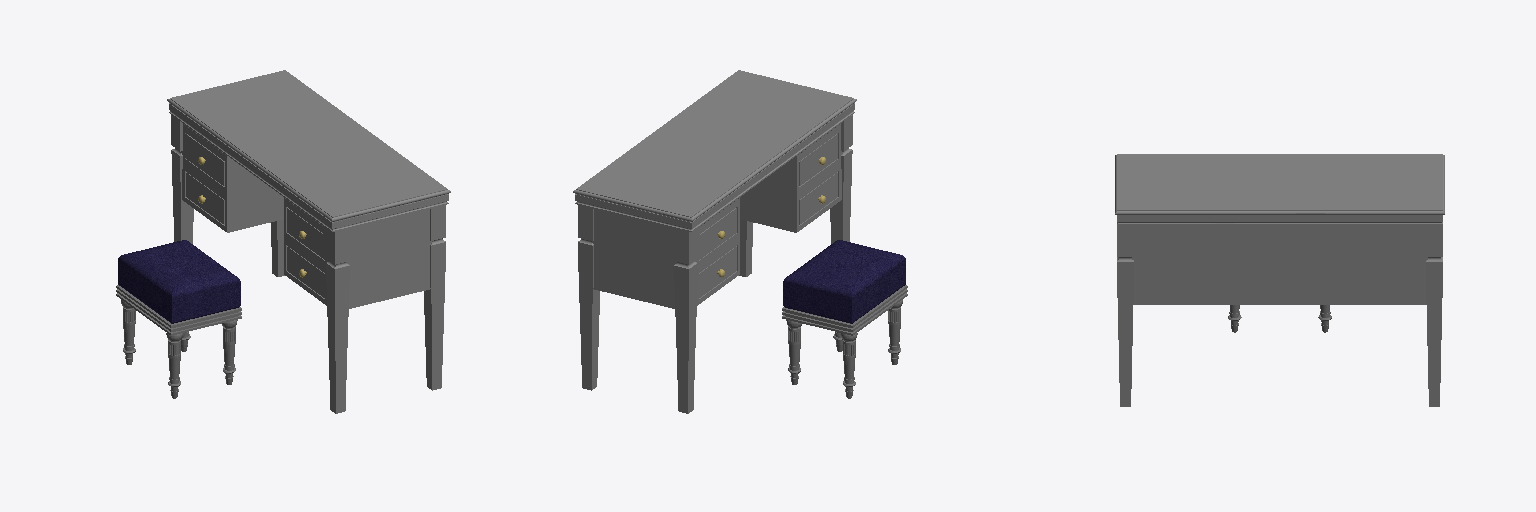
The picture shows the model from 3 angles: view 1: azimuth 30°, elevation 25°; view 2: azimuth 150°, elevation 25°; view 3: azimuth 270°, elevation 25°; orthographic projection.
Bounding box in the file's own units: 0.945 × 0.8 × 1.2.
46 materials, 1 textured.